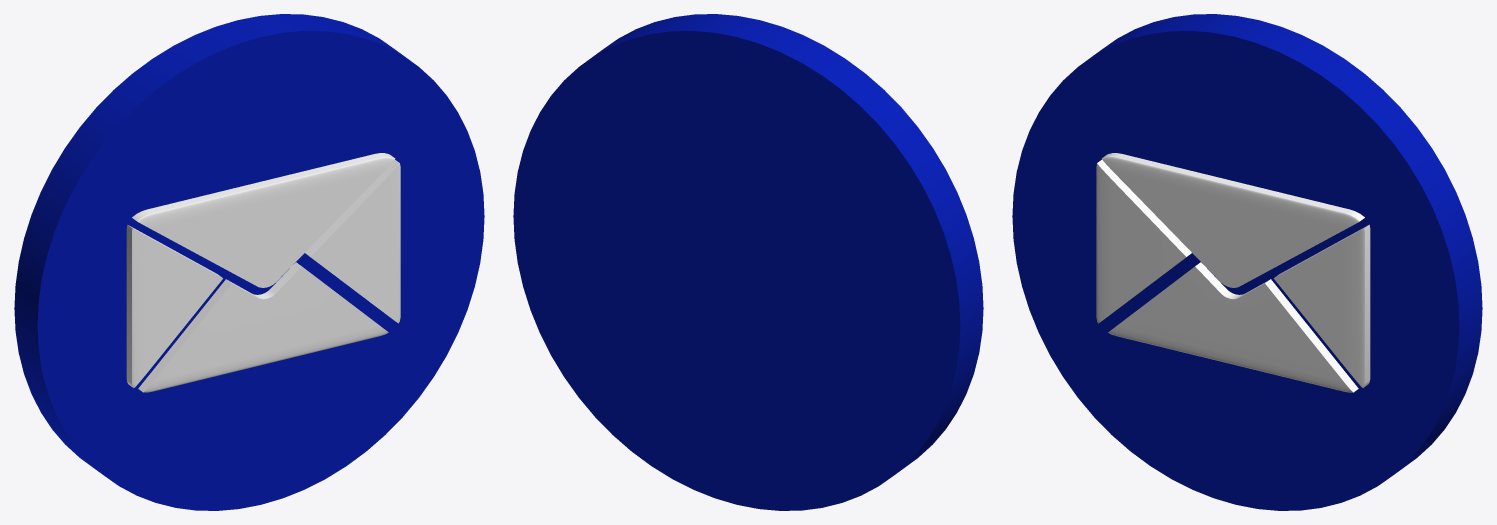
The model's file is mail-blue.glb.
The picture shows the model from 3 angles, left to right: view 1: azimuth 30°, elevation 25°; view 2: azimuth 150°, elevation 25°; view 3: azimuth 330°, elevation 25°; orthographic projection.
Visible parts, largest first — view 1: Object_2, Object_3; view 2: Object_2; view 3: Object_2, Object_3.
Part boxes in pixels (x1,y1,x2,y2): Object_2: (14, 14, 484, 510); Object_3: (126, 153, 400, 392); Object_2: (513, 14, 983, 510); Object_2: (1012, 14, 1482, 510); Object_3: (1096, 153, 1370, 392).
Bounding box in the file's own units: 4.16 × 4.16 × 0.4674.
2 materials, 1 textured.
